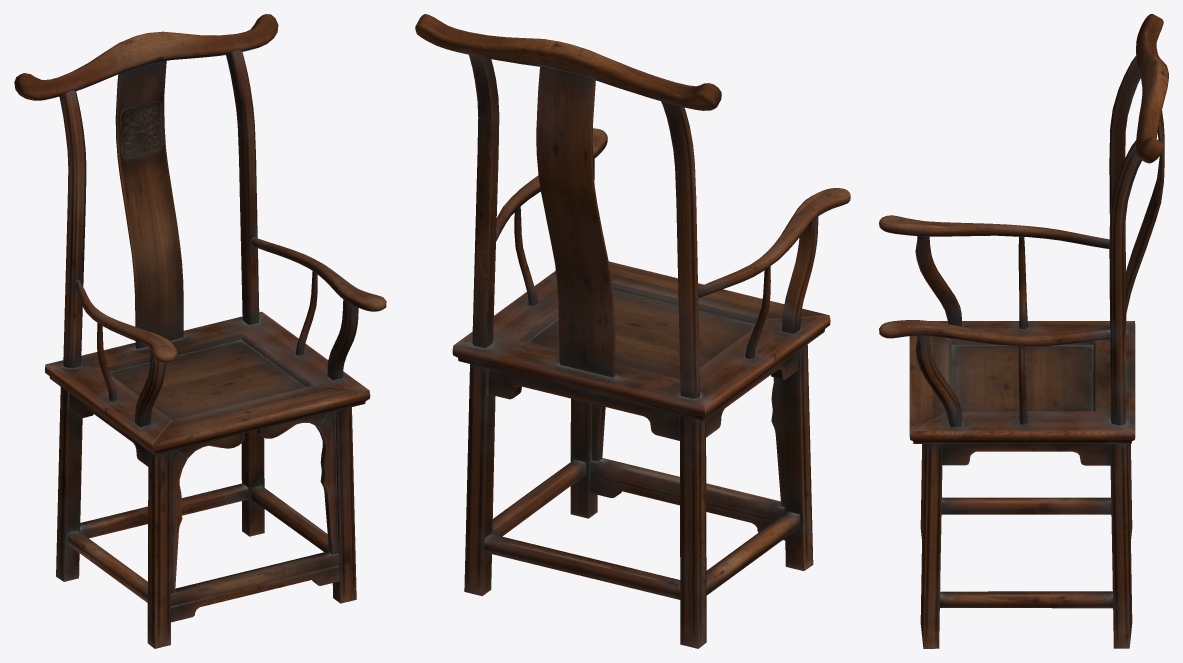
File: chinese_armchair.glb
The picture shows the model from 3 angles, left to right: view 1: azimuth 30°, elevation 25°; view 2: azimuth 150°, elevation 25°; view 3: azimuth 270°, elevation 25°; orthographic projection. The views are drawn at different scales.
Visible parts, largest first — view 1: chinese_armchair; view 2: chinese_armchair; view 3: chinese_armchair.
Boxes of the visible parts, bbox=[...] form: chinese_armchair: bbox=[14, 14, 386, 648]; chinese_armchair: bbox=[415, 14, 850, 648]; chinese_armchair: bbox=[879, 14, 1168, 648].
Size of the model in its own units: 0.8483 by 1.59 by 0.7887.
Materials: 1 (1 with a texture image).
